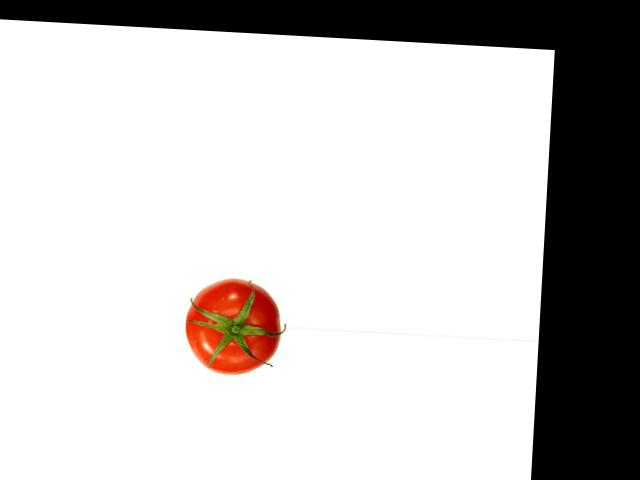tomato: (182, 276, 283, 376)
